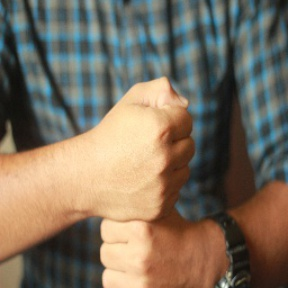G: (89, 74, 198, 288)
